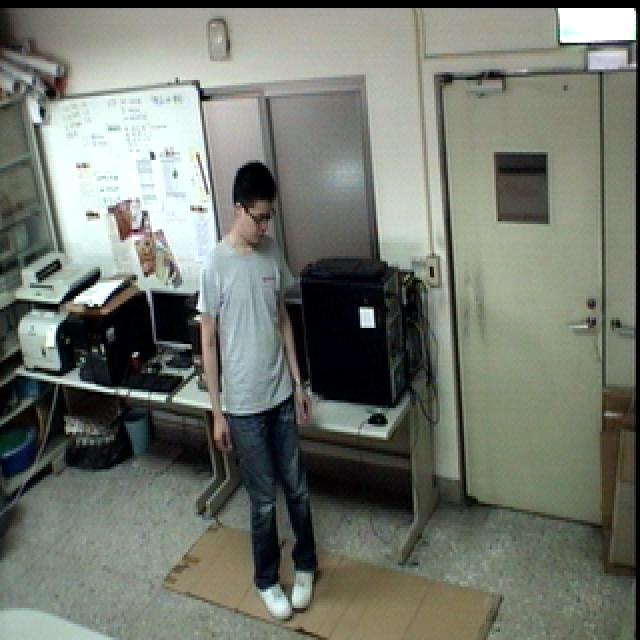stand: (191, 158, 331, 622)
